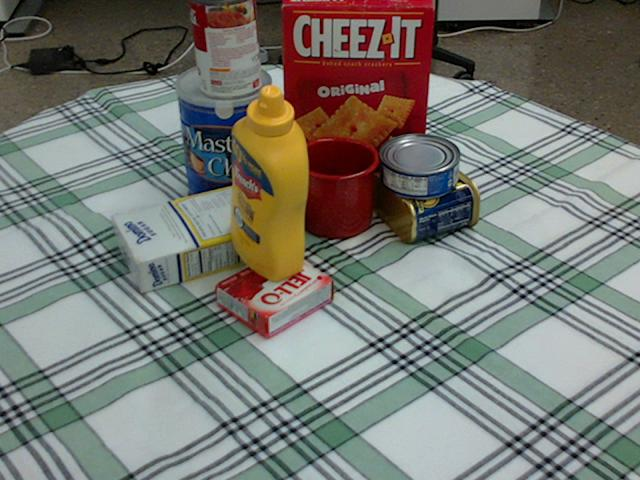cracker_box: (282, 0, 435, 181)
gelatin_box: (216, 250, 334, 338)
master_chef_can: (174, 62, 275, 216)
mug: (293, 135, 380, 237)
mustard_bottle: (230, 84, 307, 280)
potted_meat_can: (367, 147, 478, 238)
sugar_box: (109, 176, 300, 292)
tomato_soup_can: (190, 0, 261, 98)
tuna_fish_can: (378, 134, 459, 198)
